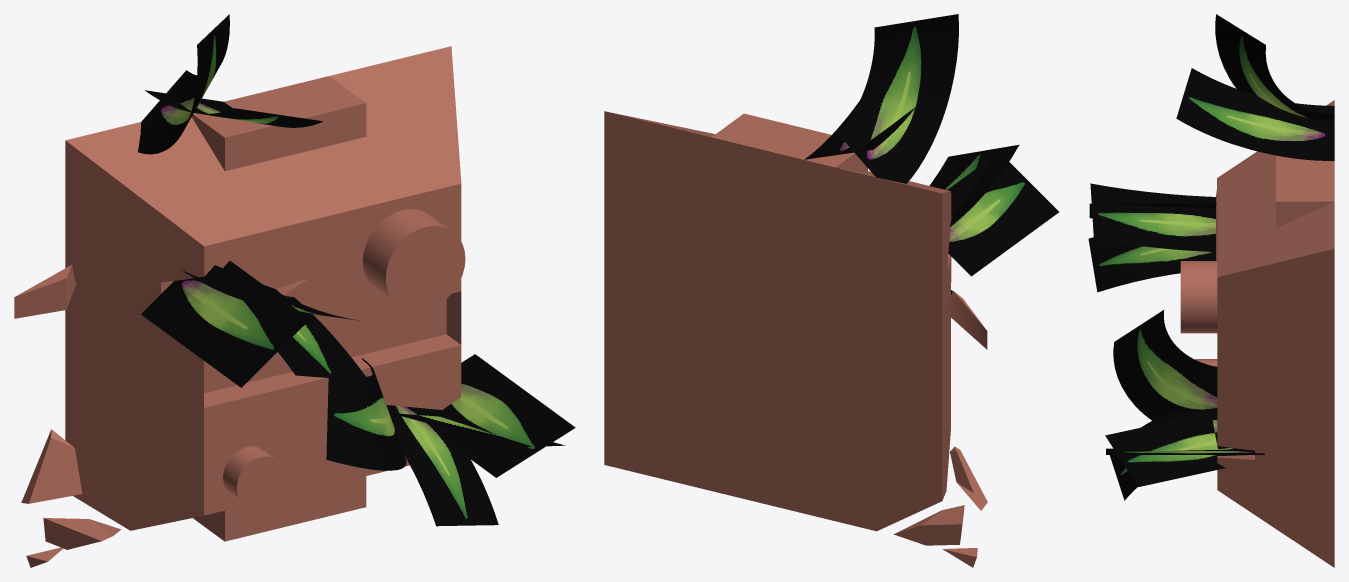
Rendered from FactoryHealed.obj.
The picture shows the model from 3 angles, left to right: view 1: azimuth 30°, elevation 25°; view 2: azimuth 150°, elevation 25°; view 3: azimuth 270°, elevation 25°; orthographic projection. The views are drawn at different scales.
Size of the model in its own units: 1.7 by 2.06 by 1.05.
2 materials, 1 textured.
